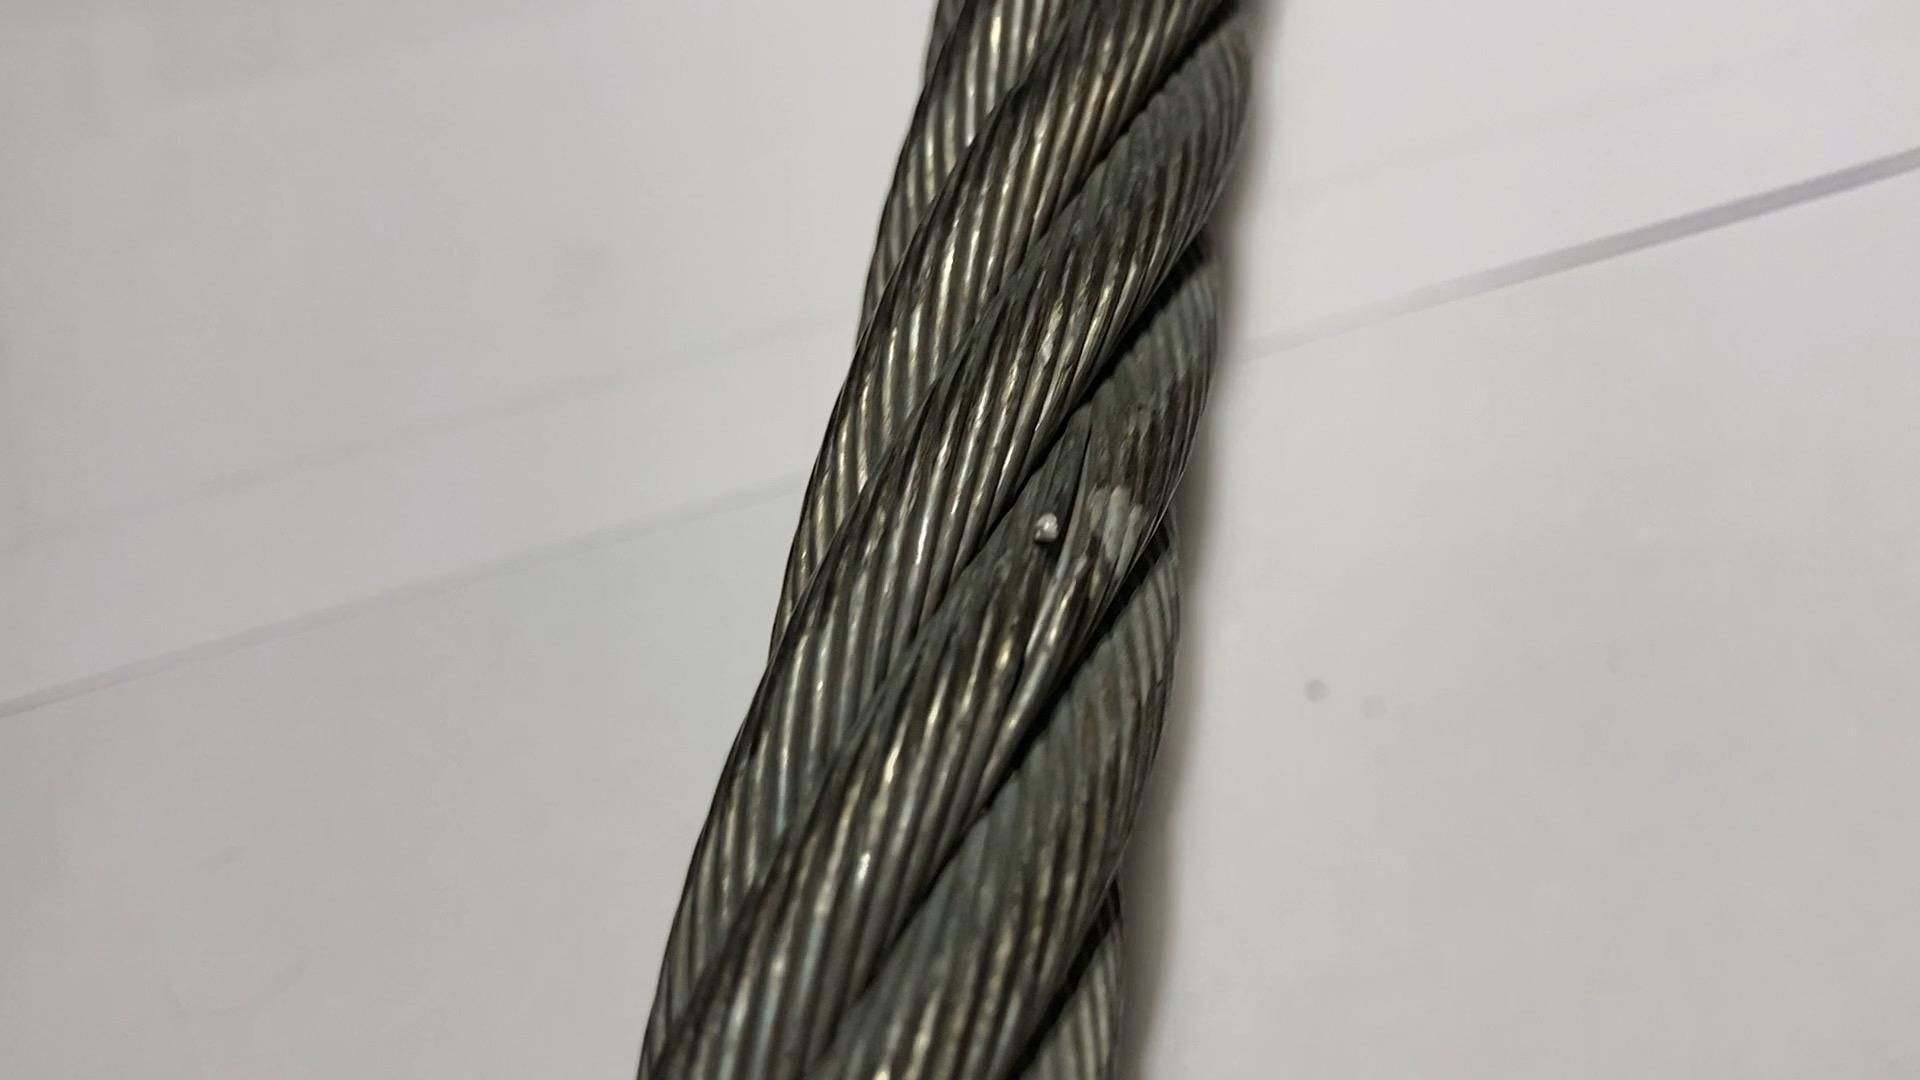break: (998, 473, 1121, 607)
